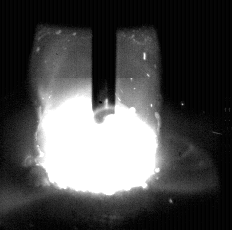arame: (93, 0, 116, 124)
poca: (38, 0, 157, 230)
